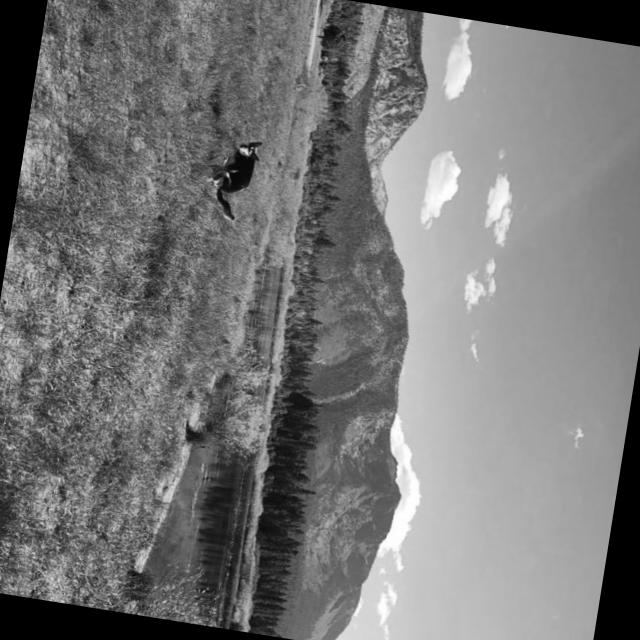squatting: (193, 127, 274, 229)
